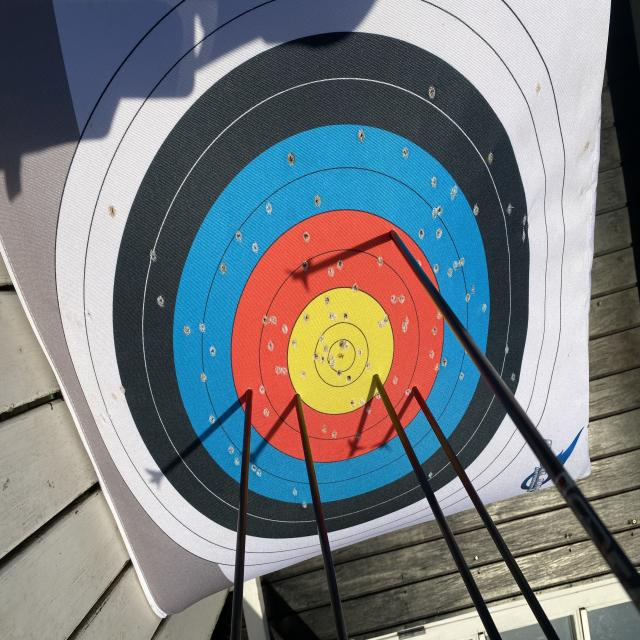Arrow_Red: (371, 220, 416, 265), (406, 368, 440, 415), (283, 383, 312, 418), (235, 380, 263, 415)
Arrow_Yellow: (364, 363, 392, 402)
